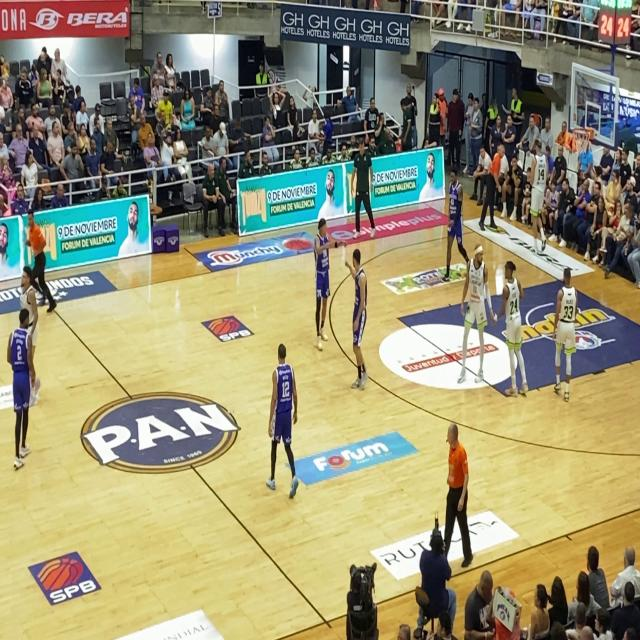referee: (442, 414, 486, 568)
team1: (464, 233, 500, 404), (547, 257, 581, 397), (495, 247, 526, 372)
team2: (4, 294, 46, 462), (260, 340, 300, 498), (338, 240, 371, 392), (304, 206, 338, 334), (440, 163, 467, 275)
ubasket: (572, 122, 592, 160)
